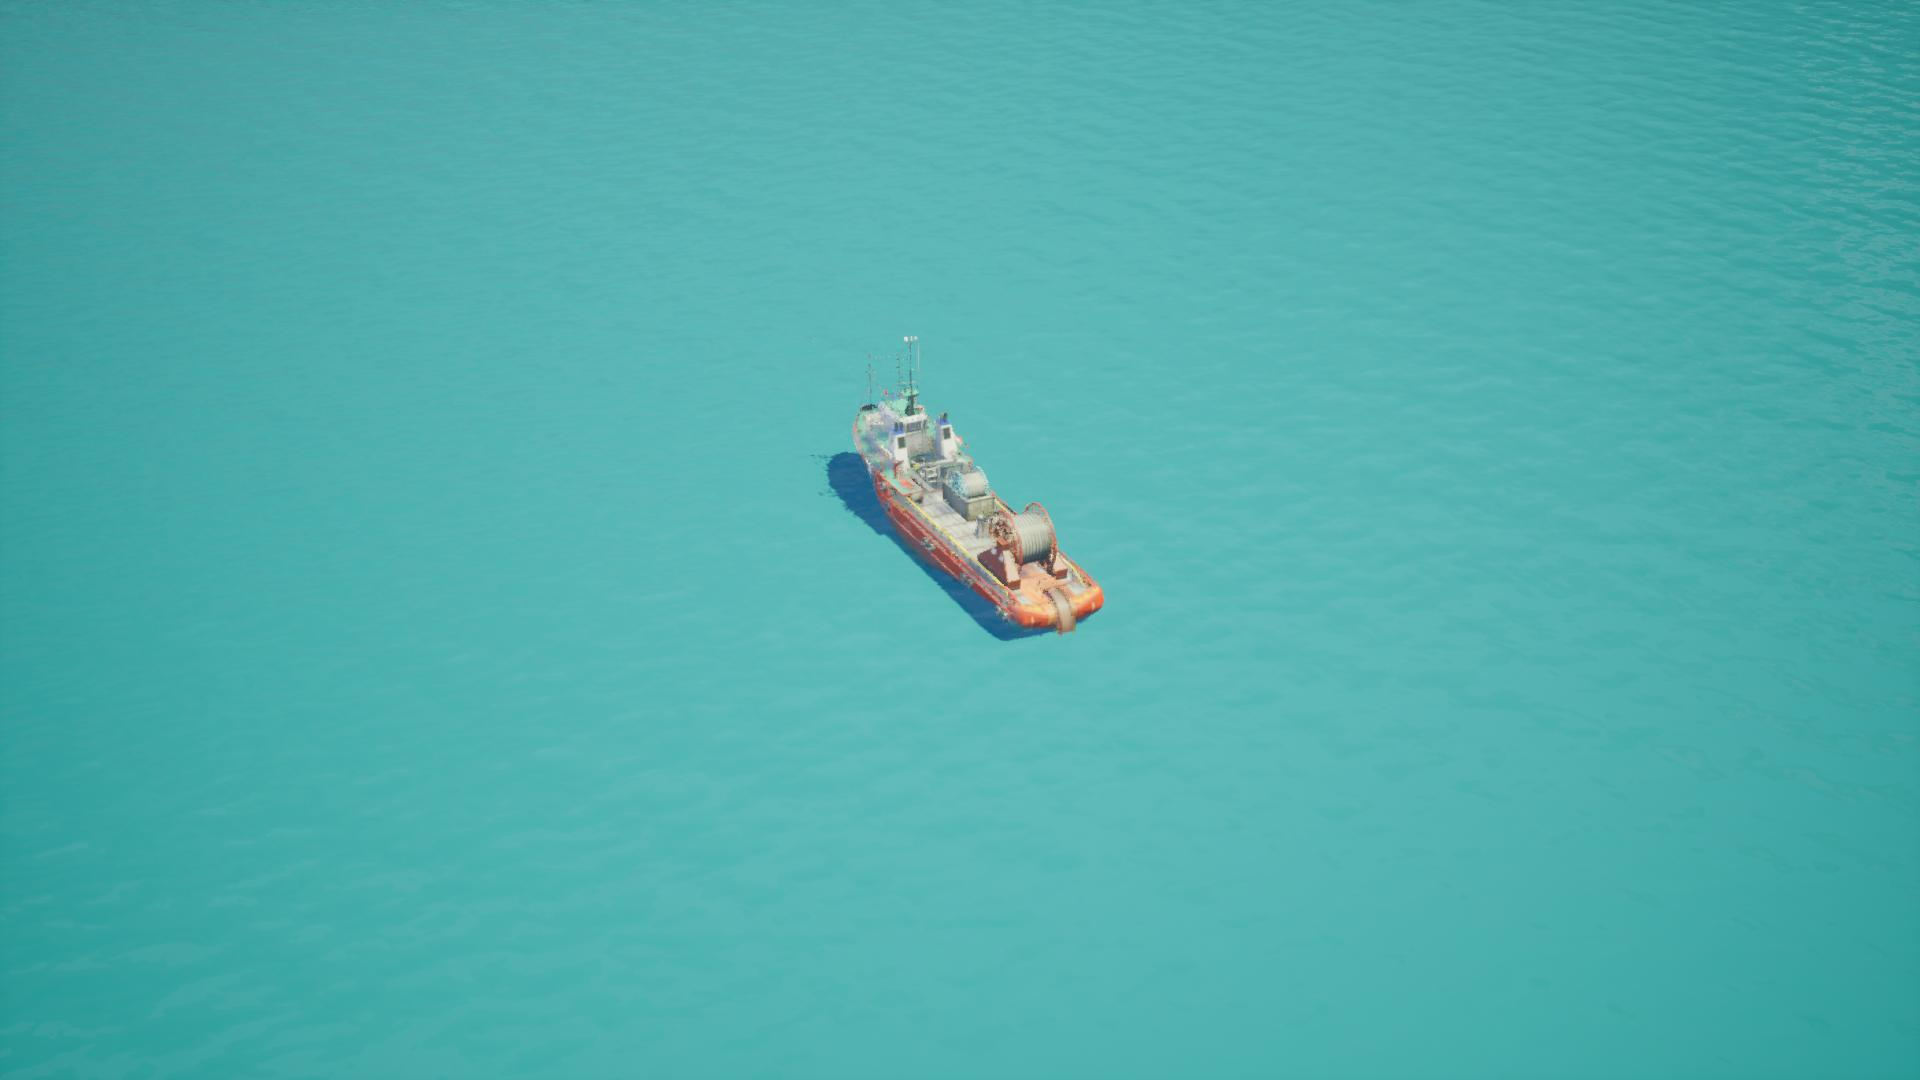Tug Boat: (829, 336, 1073, 642)
